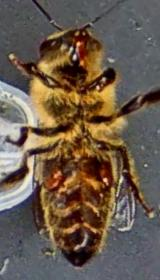varroa_mite: (26, 158, 72, 196), (88, 158, 123, 194)
